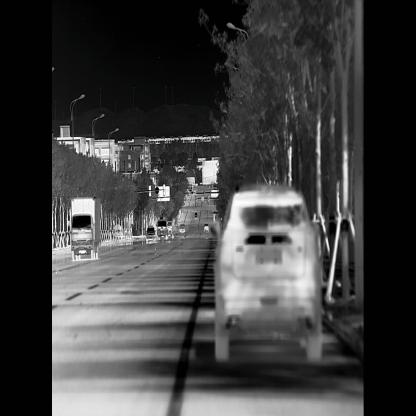car: (207, 164, 332, 380), (145, 224, 157, 245), (178, 220, 188, 236), (203, 221, 209, 234), (188, 186, 193, 196), (194, 210, 198, 221)
truck: (69, 194, 104, 262), (156, 218, 167, 241), (167, 218, 176, 241)
